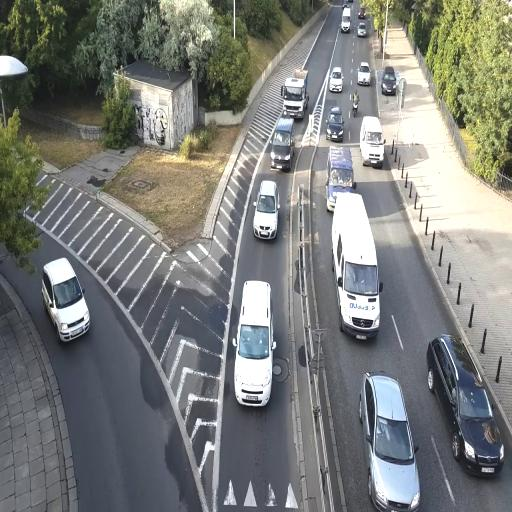vehicle: (426, 333, 506, 479), (426, 334, 506, 478), (359, 370, 421, 511), (332, 191, 381, 341), (234, 279, 274, 407), (40, 256, 90, 345), (326, 147, 355, 211), (252, 180, 279, 242), (269, 116, 296, 172), (270, 115, 296, 171), (281, 70, 309, 119), (359, 117, 384, 169), (326, 105, 344, 141), (381, 68, 398, 96), (328, 67, 344, 94), (357, 62, 372, 86)
